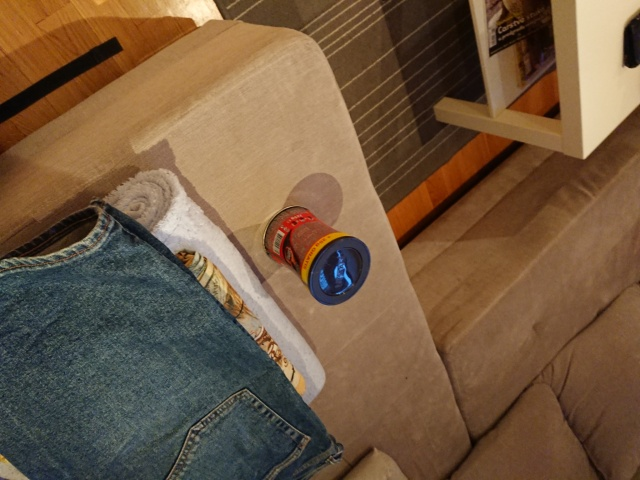Nescafe Classic 225g: (260, 203, 373, 308)
